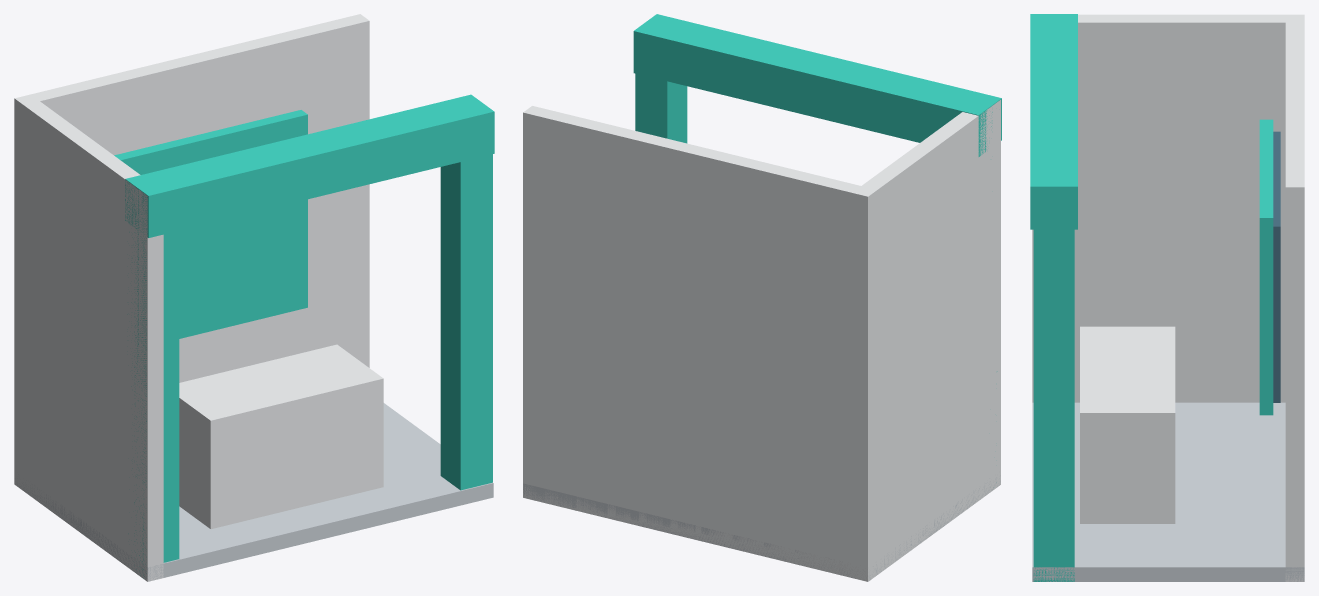
The picture shows the model from 3 angles, left to right: view 1: azimuth 30°, elevation 25°; view 2: azimuth 150°, elevation 25°; view 3: azimuth 270°, elevation 25°; orthographic projection. The views are drawn at different scales.
Visible parts, largest first — view 1: Exhibition Booth Concept; view 2: Exhibition Booth Concept; view 3: Exhibition Booth Concept.
Part boxes in pixels (left/top/right/bottom): Exhibition Booth Concept: left=14, top=14, right=494, bottom=581; Exhibition Booth Concept: left=523, top=14, right=1001, bottom=581; Exhibition Booth Concept: left=1030, top=14, right=1304, bottom=581.
Size of the model in its own units: 3 by 3.2 by 2.01.
